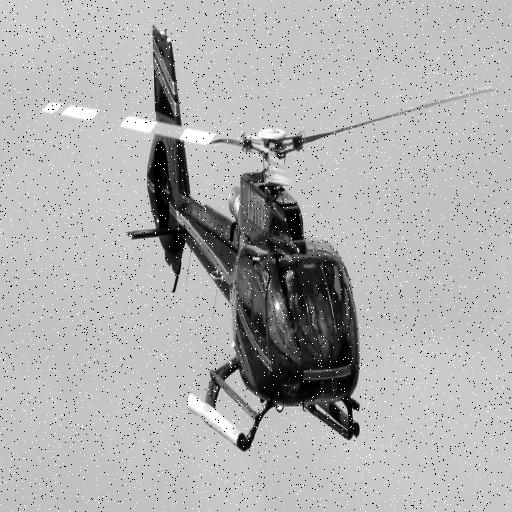helicopter: (44, 31, 497, 455)
